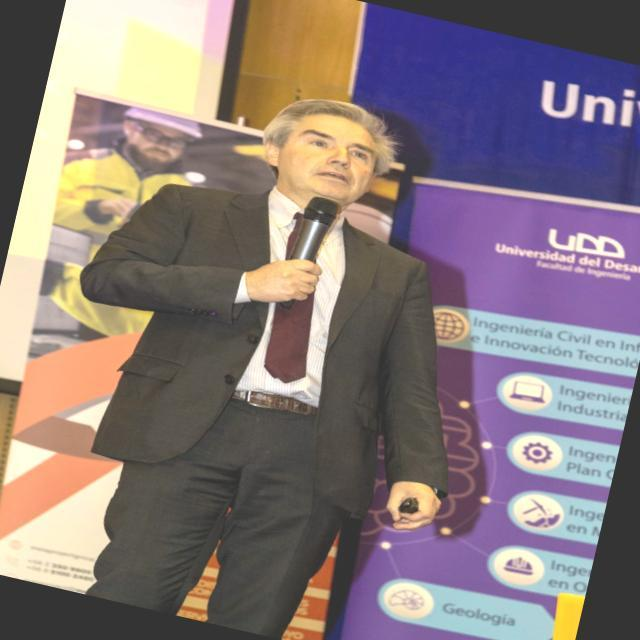person: (0, 47, 525, 640)
